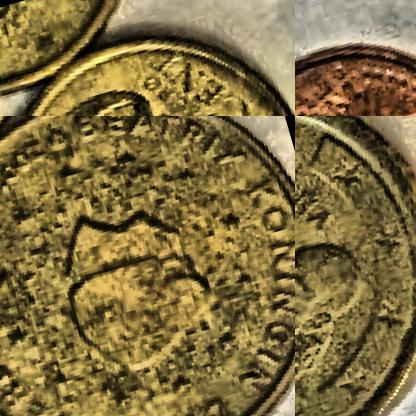coin: (0, 116, 294, 415), (295, 116, 415, 415), (0, 0, 294, 115), (295, 12, 415, 115)
